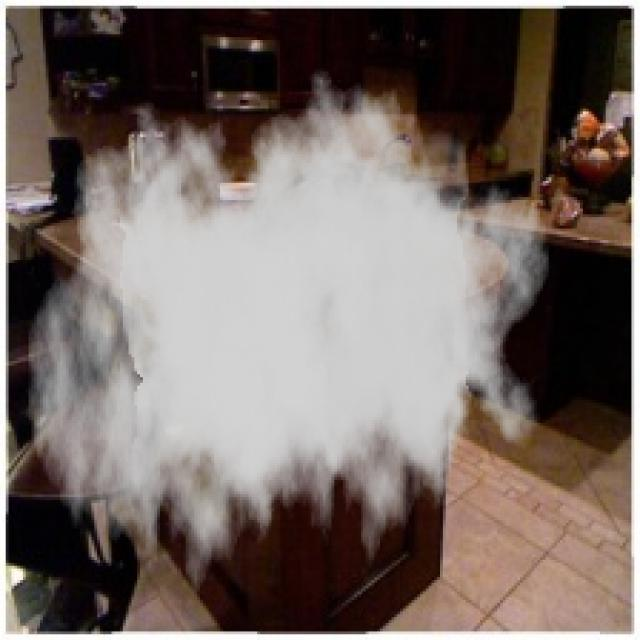Smoke: (26, 60, 552, 620)
